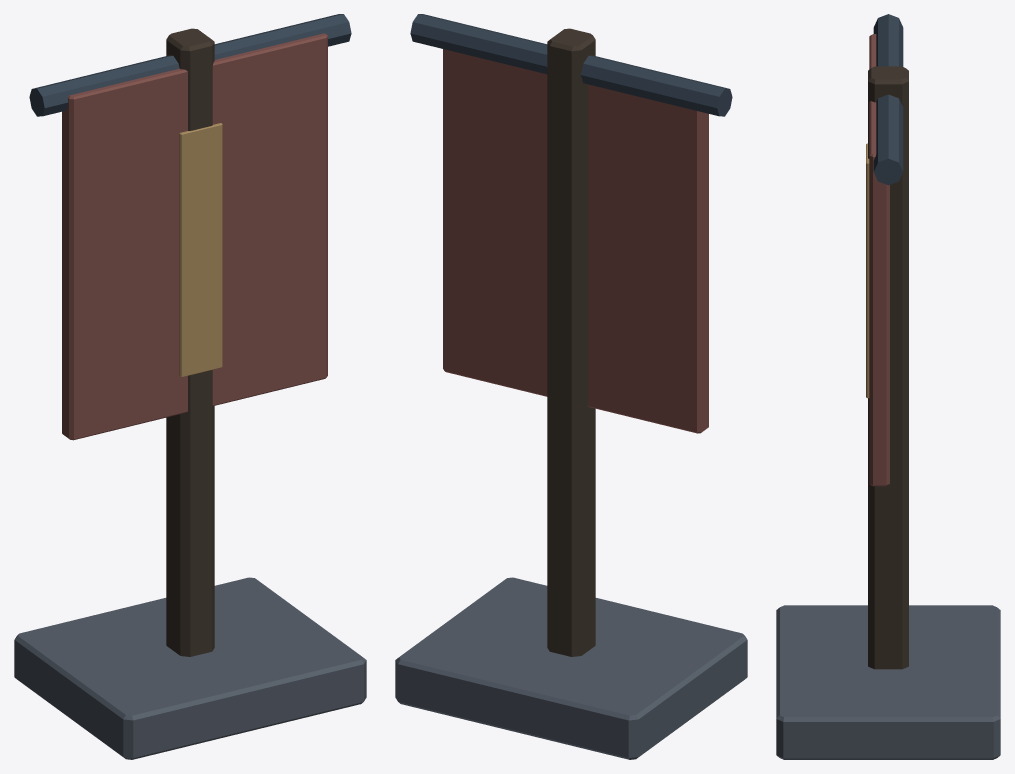
Rendered from restrained-banner.glb.
The picture shows the model from 3 angles, left to right: view 1: azimuth 30°, elevation 25°; view 2: azimuth 150°, elevation 25°; view 3: azimuth 270°, elevation 25°; orthographic projection. The views are drawn at different scales.
Visible parts, largest first — view 1: restrained-banner__body; view 2: restrained-banner__body; view 3: restrained-banner__body.
Part boxes in pixels (left/top/right/bottom): restrained-banner__body: left=14, top=14, right=366, bottom=759; restrained-banner__body: left=395, top=14, right=747, bottom=759; restrained-banner__body: left=776, top=14, right=1000, bottom=759.
Bounding box in the file's own units: 0.58 × 1.18 × 0.38.
